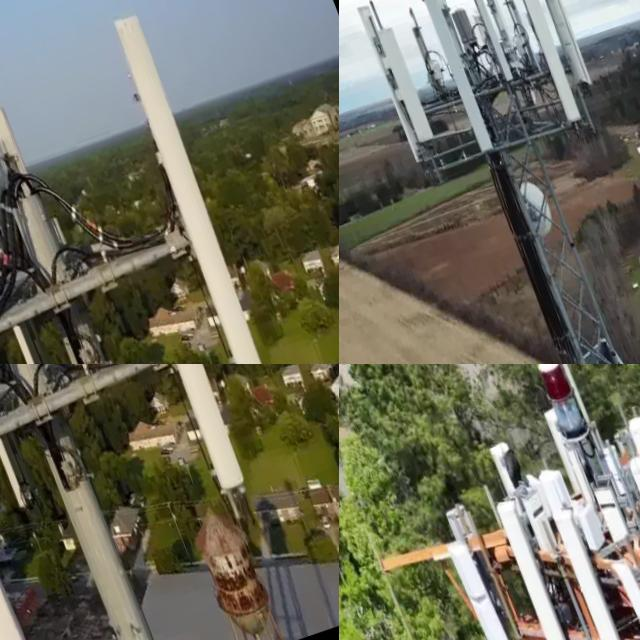GSM Antenna: (101, 1, 278, 364), (74, 364, 263, 506), (400, 0, 498, 163), (0, 126, 66, 364), (542, 496, 640, 640), (489, 494, 579, 640), (492, 0, 586, 124), (369, 14, 442, 151), (0, 97, 61, 257), (437, 526, 512, 640), (468, 0, 527, 79), (619, 402, 640, 604), (466, 0, 513, 77), (605, 551, 640, 640)
Microwave Antenna: (508, 171, 558, 240)
